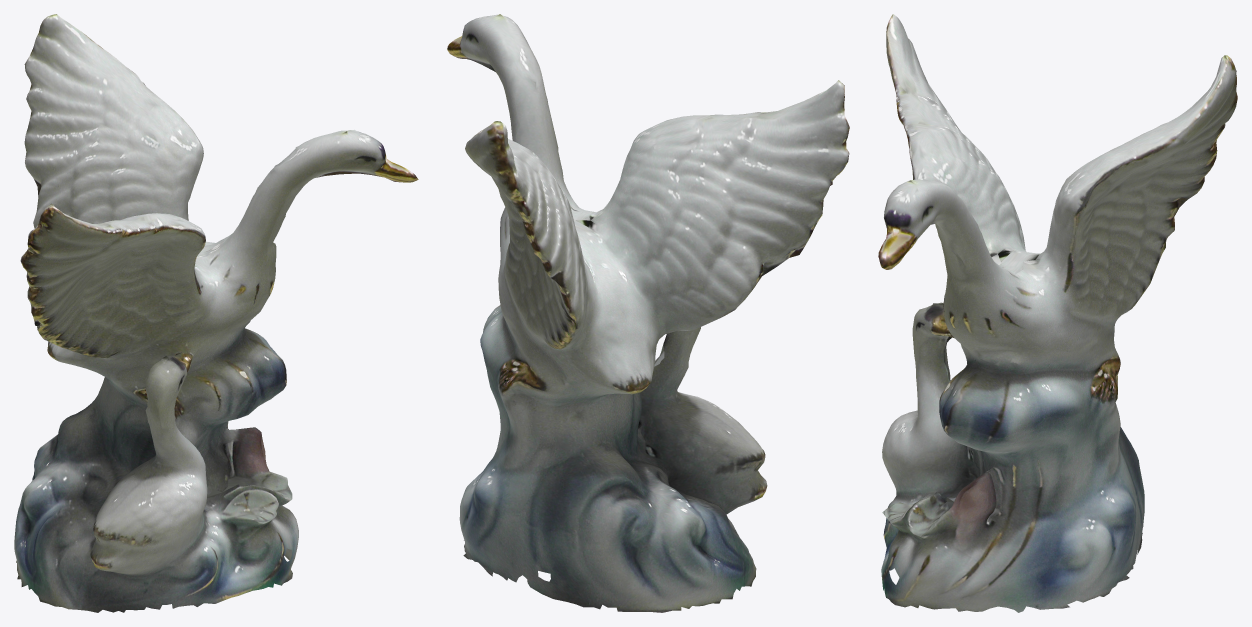
File: swan.glb
3 views of the same model, side by side, from view 1: azimuth 30°, elevation 25°; view 2: azimuth 150°, elevation 25°; view 3: azimuth 270°, elevation 25° (orthographic). The views are drawn at different scales.
Parts seen in each view (by area): view 1: Stereo textured mesh; view 2: Stereo textured mesh; view 3: Stereo textured mesh.
Boxes of the visible parts, x1,y1,x2,y2 form: Stereo textured mesh: [14, 14, 418, 612]; Stereo textured mesh: [447, 14, 849, 612]; Stereo textured mesh: [878, 14, 1237, 612].
Bounding box in the file's own units: 837 × 1000 × 637.
Materials: 4 (4 with a texture image).
